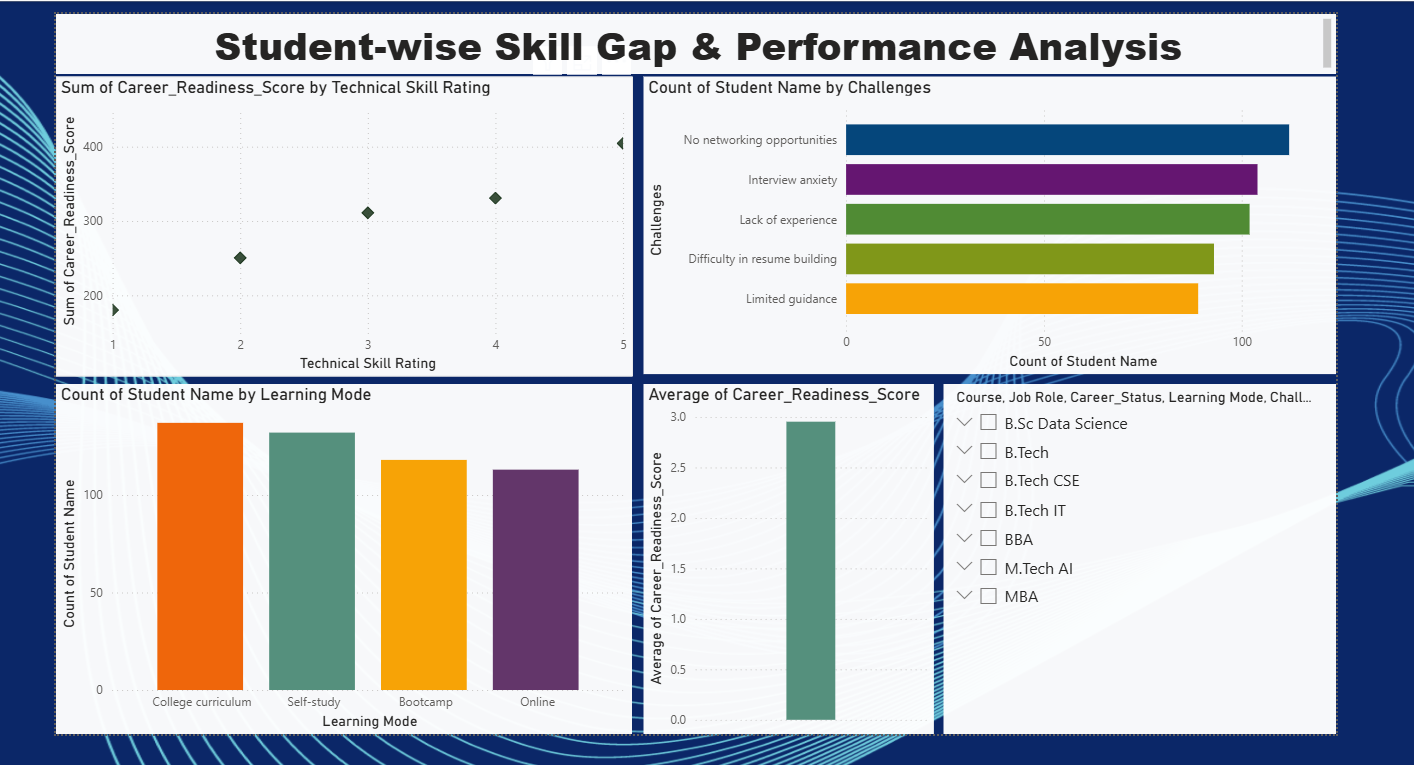

This screenshot's page, from the dashboard's own definition file:
{"tool":"powerbi","page":{"name":"Page 3","canvas":[1280,720],"ordinal":2},"visuals":[{"type":"scatterChart","fields":{"X":["Studentskillgap.Technical Skill Rating"],"Y":["Sum(Studentskillgap.Career_Readiness_Score)"]},"box":[0,62.5,576.2,300],"z":0},{"type":"clusteredColumnChart","fields":{"Y":["Avg(Studentskillgap.Career_Readiness_Score)"]},"box":[587.5,370,290,350],"z":1000},{"type":"clusteredColumnChart","fields":{"Category":["Studentskillgap.Learning Mode"],"Y":["CountNonNull(Studentskillgap.Student Name)"]},"box":[0,370,576.2,350],"z":2000},{"type":"barChart","fields":{"Category":["Studentskillgap.Challenges"],"Y":["CountNonNull(Studentskillgap.Student Name)"]},"box":[587.5,62.5,692.5,297.5],"z":3000},{"type":"slicer","fields":{"Values":["Studentskillgap.Course","Studentskillgap.Job Role","Studentskillgap.Career_Status","Studentskillgap.Learning Mode","Studentskillgap.Challenges","Studentskillgap.year"]},"box":[887.5,370,392.5,350],"z":4000},{"type":"textbox","box":[0,0,1280,60],"z":5000}]}

Visuals, with their boxes in screenshot pixels (x1, y1, x2, y2):
scatterChart - Studentskillgap.Technical Skill Rating x Sum(Studentskillgap.Career_Readiness_Score): {"left": 48, "top": 71, "right": 631, "bottom": 374}
clusteredColumnChart - Avg(Studentskillgap.Career_Readiness_Score): {"left": 642, "top": 382, "right": 936, "bottom": 736}
clusteredColumnChart - Studentskillgap.Learning Mode x CountNonNull(Studentskillgap.Student Name): {"left": 48, "top": 382, "right": 631, "bottom": 736}
barChart - Studentskillgap.Challenges x CountNonNull(Studentskillgap.Student Name): {"left": 642, "top": 71, "right": 1343, "bottom": 372}
slicer - Studentskillgap.Course x Studentskillgap.Job Role: {"left": 946, "top": 382, "right": 1343, "bottom": 736}
textbox: {"left": 48, "top": 7, "right": 1343, "bottom": 68}
